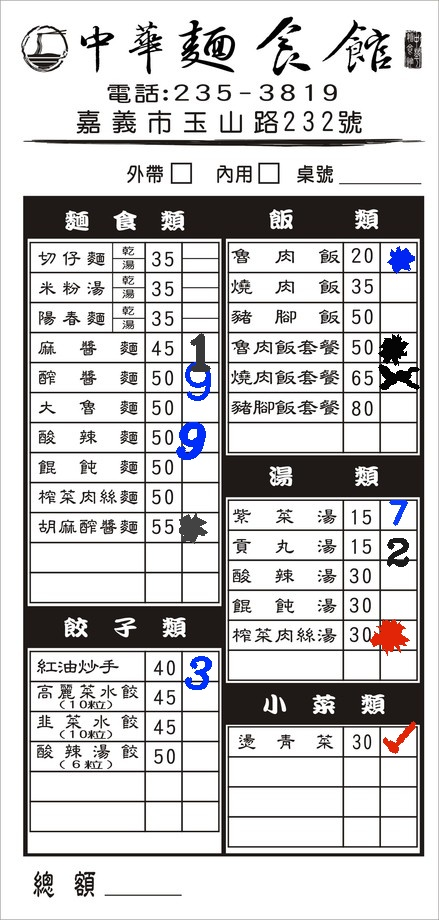marked_circle: (181, 512, 217, 541), (378, 332, 414, 361), (381, 242, 417, 271), (380, 619, 416, 648)
marked_number_1: (182, 332, 218, 361)
marked_number_2: (380, 531, 416, 560)
marked_number_3: (182, 651, 218, 680)
marked_number_7: (381, 500, 417, 529)
marked_number_9: (181, 424, 217, 453), (182, 362, 218, 391)
marked_tick: (380, 726, 416, 755)
marked_x: (381, 360, 417, 389)
